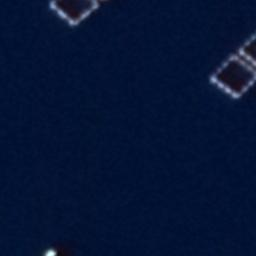square_solid: (208, 53, 256, 99), (46, 1, 102, 27)
